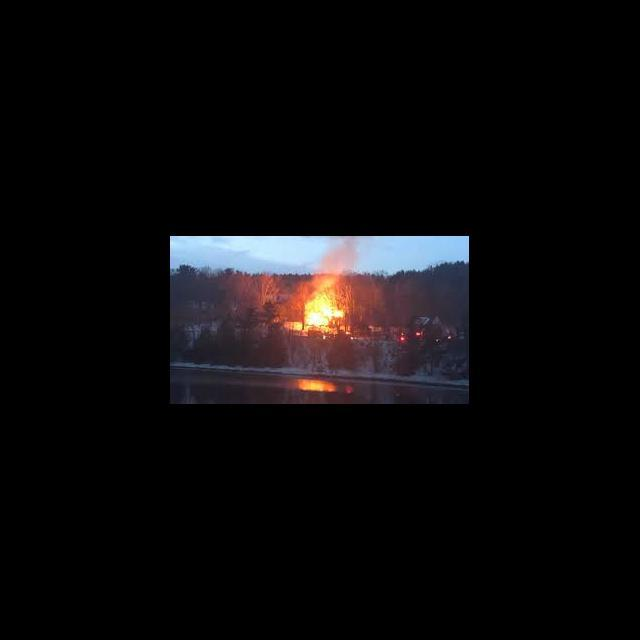Fire: (288, 282, 345, 336)
Smoke: (312, 237, 360, 280)
